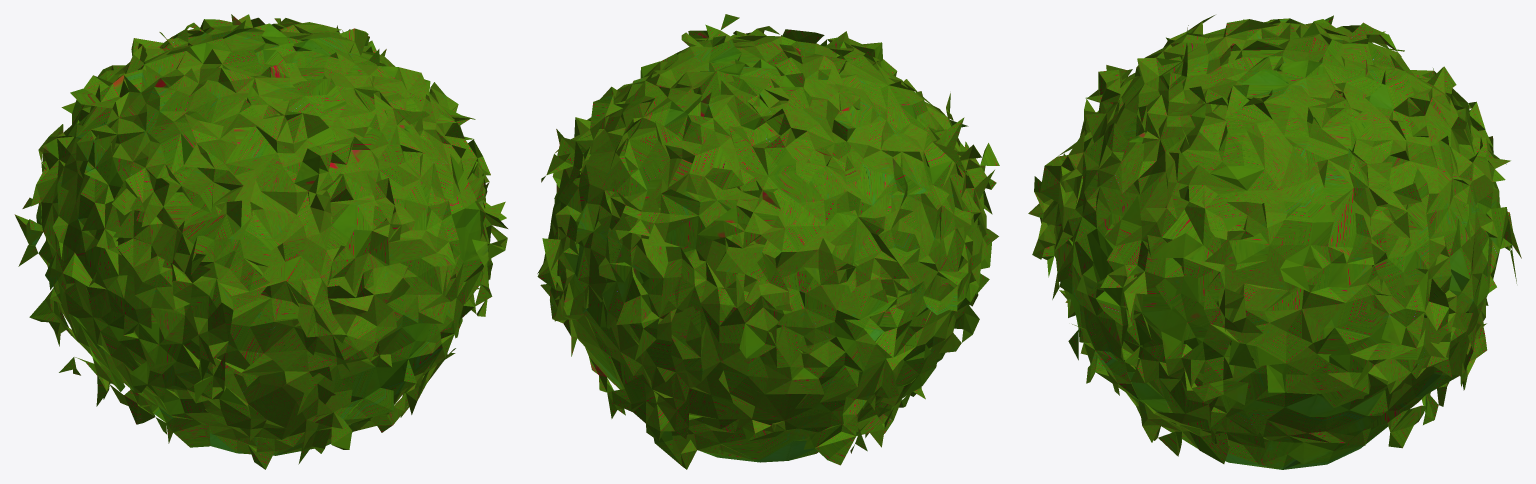
File: bush.glb
3 views of the same model, side by side, from view 1: azimuth 30°, elevation 25°; view 2: azimuth 150°, elevation 25°; view 3: azimuth 270°, elevation 25° (orthographic). The views are drawn at different scales.
Visible parts, largest first — view 1: textured_mesh.obj; view 2: textured_mesh.obj; view 3: textured_mesh.obj.
Boxes of the visible parts, x1,y1,x2,y2 form: textured_mesh.obj: (14,14,507,469); textured_mesh.obj: (537,14,999,469); textured_mesh.obj: (1028,15,1521,469).
Bounding box in the file's own units: 1.96 × 1.7 × 1.98.
1 material, 1 textured.
